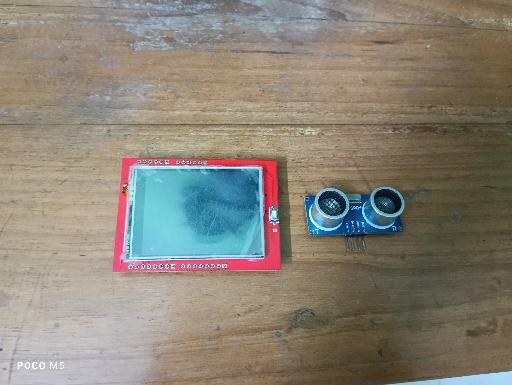Display: (112, 157, 282, 272)
sensor: (305, 186, 405, 251)
